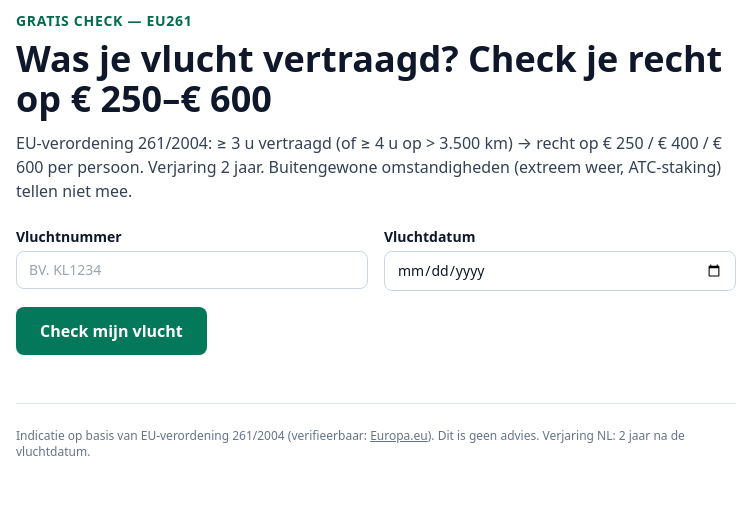
Test: VluchtclaimClient › validatie: lege inputs → error, geen fetch
The width and height of the screenshot is (753, 521).
Click the button with test id "vluchtclaim-submit" at [111, 331], box x1=16 y1=307 x2=207 y2=355
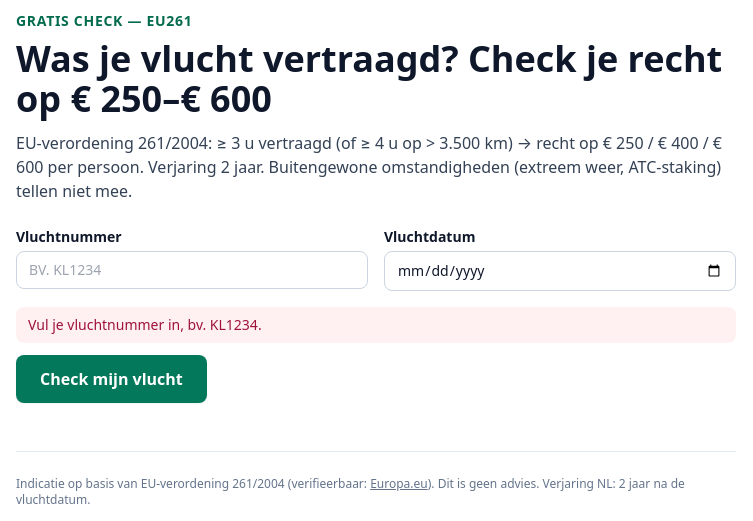
Expected: the message "Vul je vluchtnummer in, bv. KL1234." is shown, x1=16 y1=307 x2=736 y2=343
